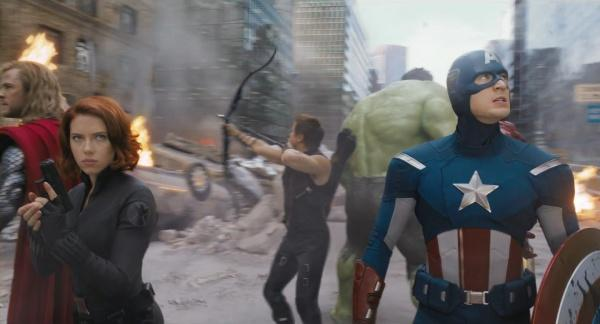Gun: (38, 158, 72, 213)
